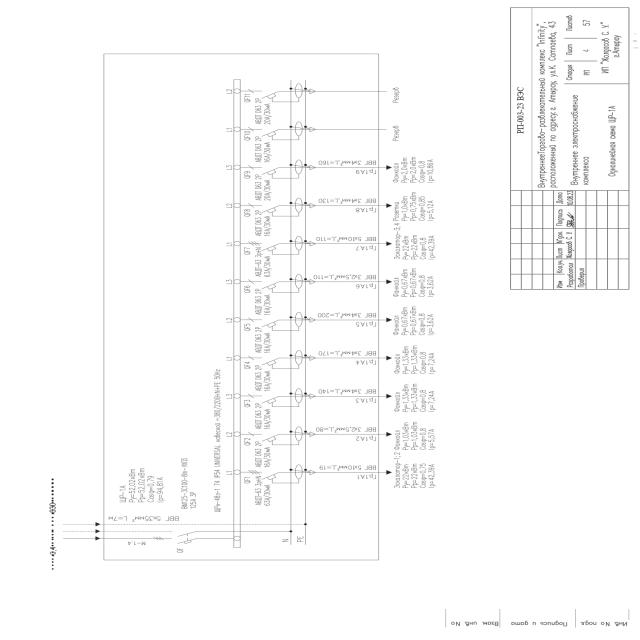-: (180, 456, 198, 511), (212, 423, 222, 513), (254, 246, 272, 278), (255, 476, 272, 506), (254, 326, 272, 354), (254, 365, 272, 392), (254, 403, 272, 430), (254, 174, 272, 201), (255, 288, 272, 316), (253, 210, 270, 237), (254, 441, 271, 468), (254, 98, 271, 124), (254, 136, 270, 163)
QF: (169, 530, 199, 546)
QFD: (257, 310, 303, 332), (258, 348, 304, 370), (257, 196, 303, 218), (258, 120, 304, 142), (257, 388, 303, 410), (257, 159, 303, 181), (259, 82, 305, 104), (258, 272, 304, 294), (258, 425, 304, 447), (260, 234, 304, 256), (260, 464, 304, 486)
